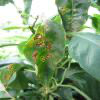Bell_pepper leaf spot: (22, 15, 67, 96), (55, 0, 92, 41), (0, 62, 24, 92)
